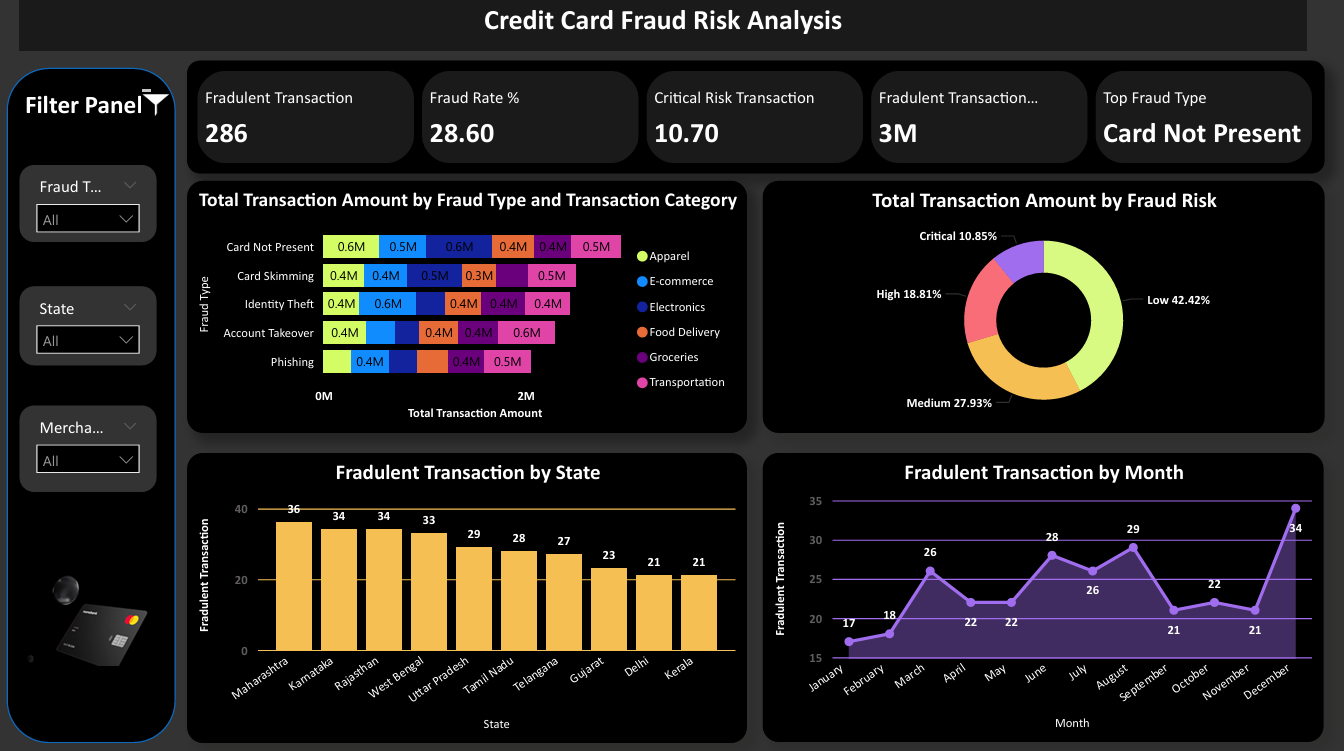

This screenshot's page, from the dashboard's own definition file:
{"tool":"powerbi","page":{"name":"Page 1","canvas":[1280,720],"ordinal":0},"visuals":[{"type":"textbox","box":[22,0,1221.3,50.8],"z":0},{"type":"shape","box":[9.6,67.2,160.5,639.5],"z":1000},{"type":"textbox","box":[22,82.3,130.4,37],"z":2000},{"type":"donutChart","fields":{"Y":["Credit Card Fraud Risk Analysis.Total Transaction Amount"],"Category":["Credit Card Fraud Risk Analysis.Fraud Risk"]},"box":[727.3,174.3,532.4,238.8],"z":3000},{"type":"columnChart","fields":{"Category":["Credit Card Fraud Risk Analysis.State"],"Y":["Credit Card Fraud Risk Analysis.Fradulent Transaction"]},"box":[181.1,432.2,531,274.4],"z":4000},{"type":"lineChart","fields":{"Y":["Credit Card Fraud Risk Analysis.Fradulent Transaction"],"Category":["Credit Card Fraud Risk Analysis.Transaction Date.Variation.Date Hierarchy.Month"]},"box":[727,432,532,274],"z":5000},{"type":"barChart","fields":{"Y":["Credit Card Fraud Risk Analysis.Total Transaction Amount"],"Category":["Credit Card Fraud Risk Analysis.Fraud Type"],"Series":["Credit Card Fraud Risk Analysis.Transaction Category"]},"box":[181.1,174.3,531,238.8],"z":6000},{"type":"slicer","fields":{"Values":["Credit Card Fraud Risk Analysis.Fraud Type"]},"box":[22,159.2,130.4,72.7],"z":6001},{"type":"slicer","fields":{"Values":["Credit Card Fraud Risk Analysis.State"]},"box":[22,274.4,130.4,74.1],"z":6002},{"type":"slicer","fields":{"Values":["Credit Card Fraud Risk Analysis.Merchant Name"]},"box":[22,387,130.4,82.3],"z":6003},{"type":"cardVisual","fields":{"Data":["Credit Card Fraud Risk Analysis.Fradulent Transaction","Credit Card Fraud Risk Analysis.Fraud Rate %","Credit Card Fraud Risk Analysis.Critical Risk Transaction","Credit Card Fraud Risk Analysis.Fradulent Transaction Amount","Credit Card Fraud Risk Analysis.Top Fraud Type"]},"box":[181.1,60.4,1078.6,107],"z":6004},{"type":"image","box":[133.1,60.4,37,82.3],"z":6005},{"type":"image","box":[22,506.3,140,155.1],"z":6006}]}

Visuals, with their boxes in screenshot pixels (x1, y1, x2, y2), scaled from the page's 1280x720 canvas onto the 1344x751 screenshot:
textbox: box(23, 0, 1305, 53)
shape: box(10, 70, 179, 737)
textbox: box(23, 86, 160, 124)
donutChart - Credit Card Fraud Risk Analysis.Total Transaction Amount x Credit Card Fraud Risk Analysis.Fraud Risk: box(764, 182, 1323, 431)
columnChart - Credit Card Fraud Risk Analysis.State x Credit Card Fraud Risk Analysis.Fradulent Transaction: box(190, 451, 748, 737)
lineChart - Credit Card Fraud Risk Analysis.Fradulent Transaction x Credit Card Fraud Risk Analysis.Transaction Date.Variation.Date Hierarchy.Month: box(763, 451, 1322, 736)
barChart - Credit Card Fraud Risk Analysis.Total Transaction Amount x Credit Card Fraud Risk Analysis.Fraud Type: box(190, 182, 748, 431)
slicer - Credit Card Fraud Risk Analysis.Fraud Type: box(23, 166, 160, 242)
slicer - Credit Card Fraud Risk Analysis.State: box(23, 286, 160, 364)
slicer - Credit Card Fraud Risk Analysis.Merchant Name: box(23, 404, 160, 490)
cardVisual - Credit Card Fraud Risk Analysis.Fradulent Transaction x Credit Card Fraud Risk Analysis.Fraud Rate %: box(190, 63, 1323, 175)
image: box(140, 63, 179, 149)
image: box(23, 528, 170, 690)
